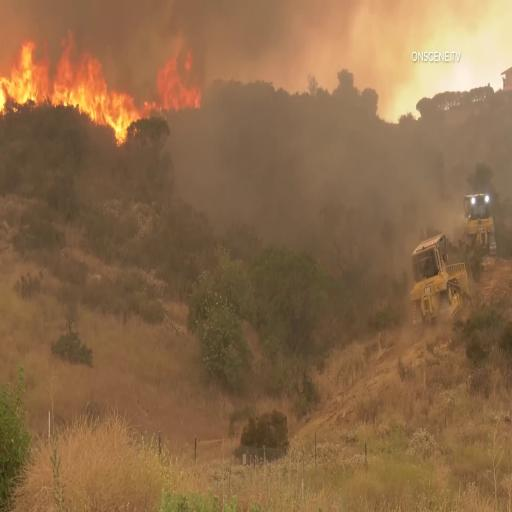fire: (105, 58, 193, 123), (56, 36, 104, 120), (4, 45, 59, 116)
